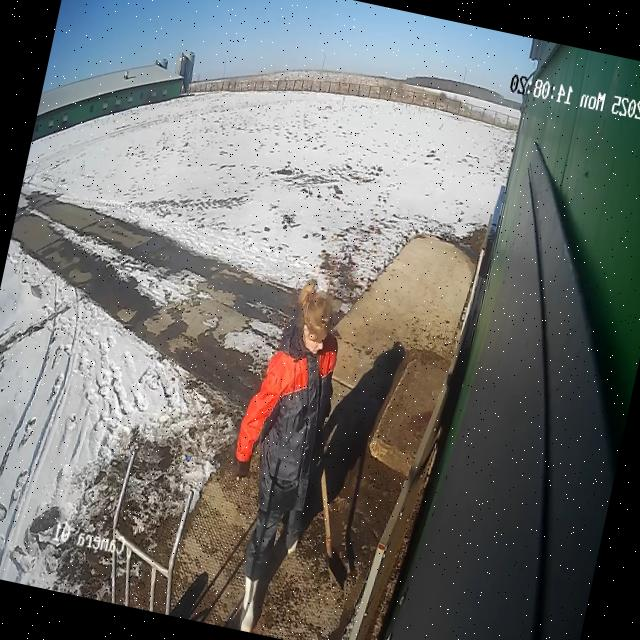Red uniform: (236, 318, 337, 580)
